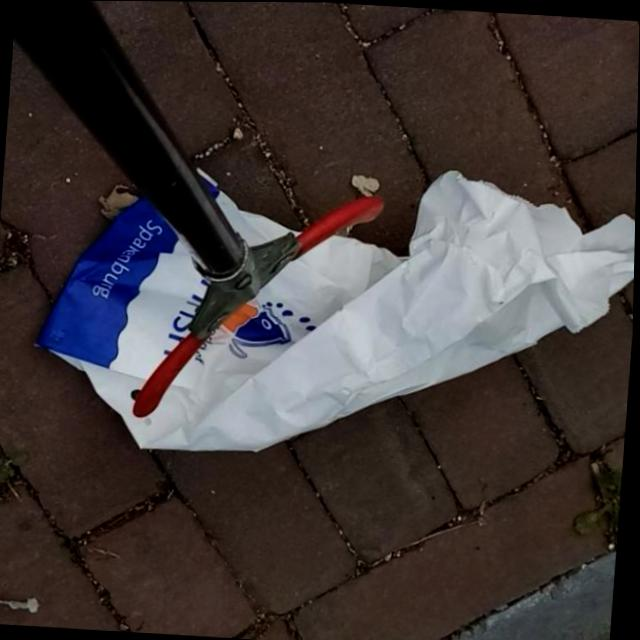Paper: (23, 143, 638, 478)
